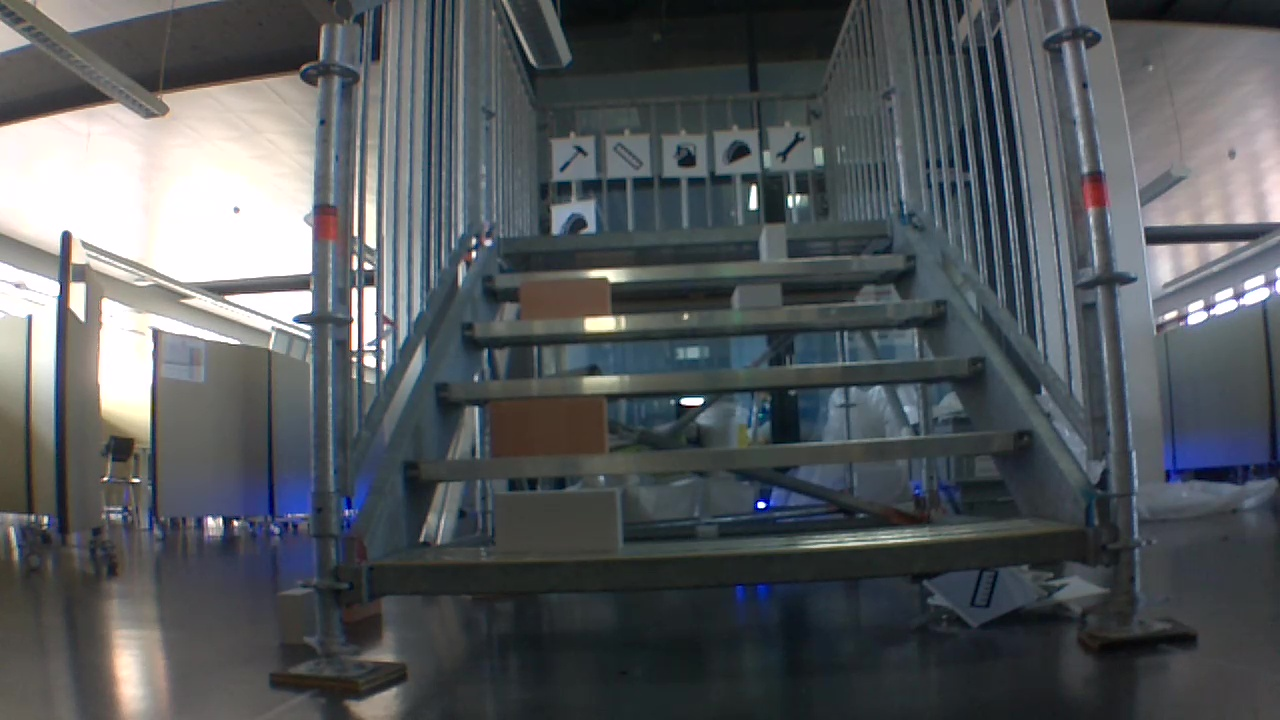brick: (491, 489, 619, 554), (489, 396, 606, 458), (521, 276, 610, 316), (279, 589, 315, 642), (732, 284, 782, 307), (758, 224, 788, 262)
bucket: (671, 140, 701, 171)
edge: (365, 529, 1088, 593), (402, 432, 1034, 478), (434, 355, 982, 398), (458, 302, 948, 334), (481, 254, 918, 287), (498, 219, 888, 246)
hammer: (555, 139, 590, 177)
ruler: (608, 140, 646, 174)
stairs: (267, 4, 1194, 695)
steps: (358, 210, 1095, 607)
taco: (717, 136, 753, 166), (557, 207, 589, 234)
wrench: (769, 126, 808, 166)
